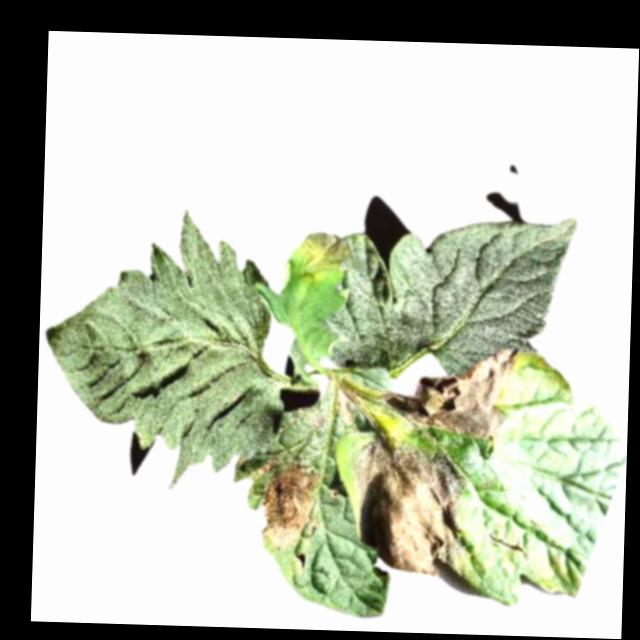Late_blight: (343, 436, 469, 577), (376, 342, 506, 441), (259, 460, 319, 554), (296, 229, 354, 280), (334, 383, 356, 424)
